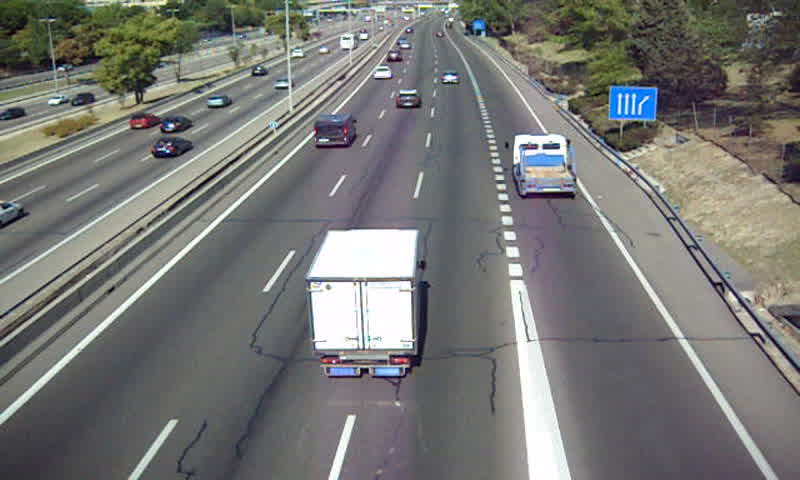car: (395, 88, 423, 112), (371, 66, 391, 82), (441, 71, 460, 86)
small-truck: (302, 228, 420, 377), (512, 133, 577, 198)
van: (313, 115, 356, 146)
